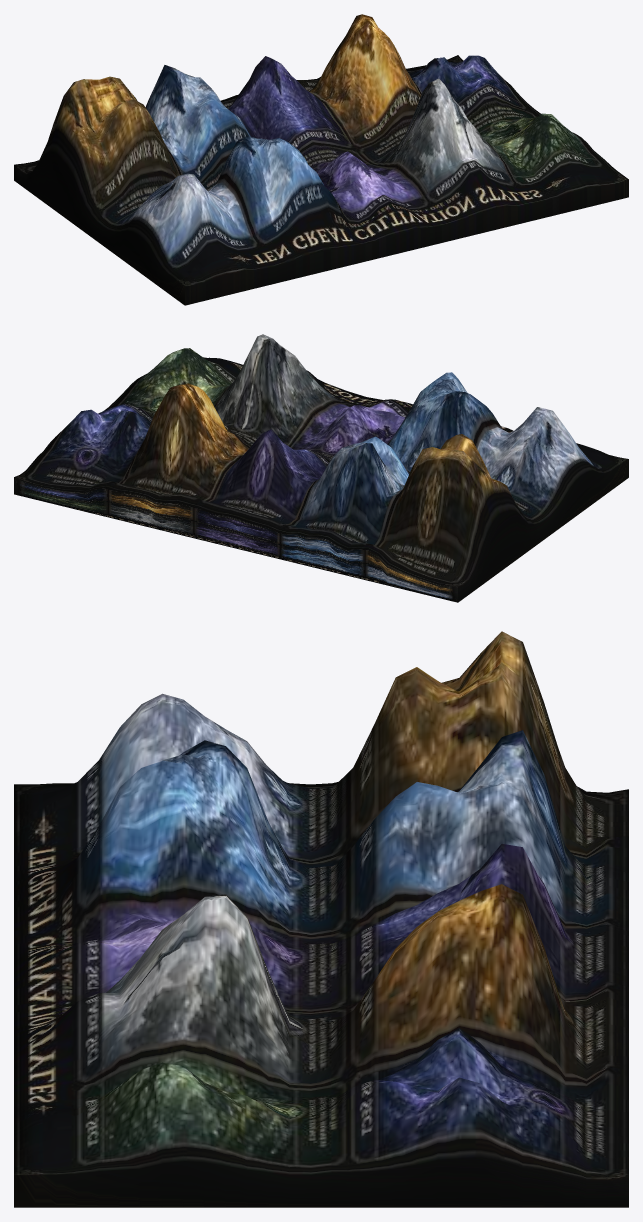
File: Poster_Sect_Techniques_10_EN.glb
3 renders of one model, top to bottom at view 1: azimuth 30°, elevation 25°; view 2: azimuth 150°, elevation 25°; view 3: azimuth 270°, elevation 25°, orthographic. The views are drawn at different scales.
Visible parts, largest first — view 1: Poster_Sect_Techniques_10_EN; view 2: Poster_Sect_Techniques_10_EN; view 3: Poster_Sect_Techniques_10_EN.
Boxes of the visible parts, x1,y1,x2,y2 form: Poster_Sect_Techniques_10_EN: (14, 14, 628, 305); Poster_Sect_Techniques_10_EN: (14, 334, 628, 602); Poster_Sect_Techniques_10_EN: (14, 631, 628, 1207).
Size of the model in its own units: 2 by 0.51 by 1.33.
1 material, 1 textured.
